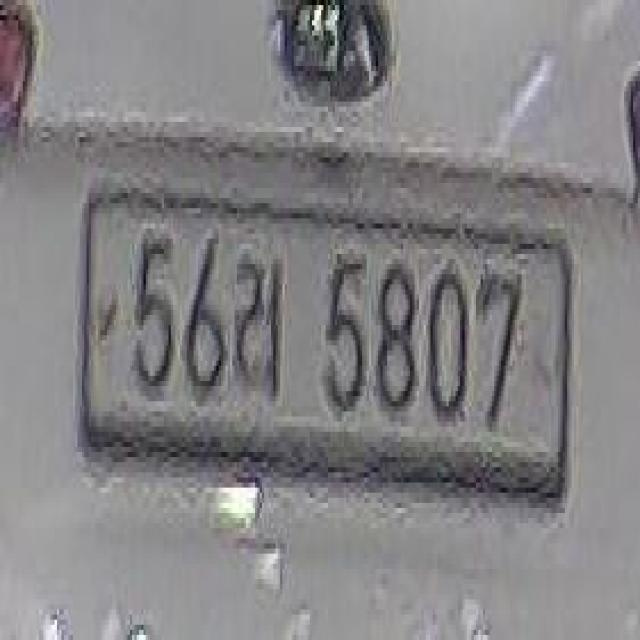illegal_plate: (80, 179, 574, 522)
